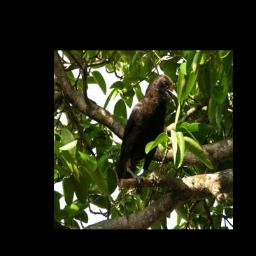Crow: (115, 71, 180, 188)
